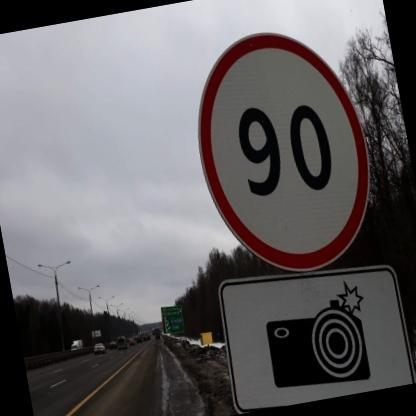road_sign: (200, 34, 368, 270), (220, 266, 416, 412)
